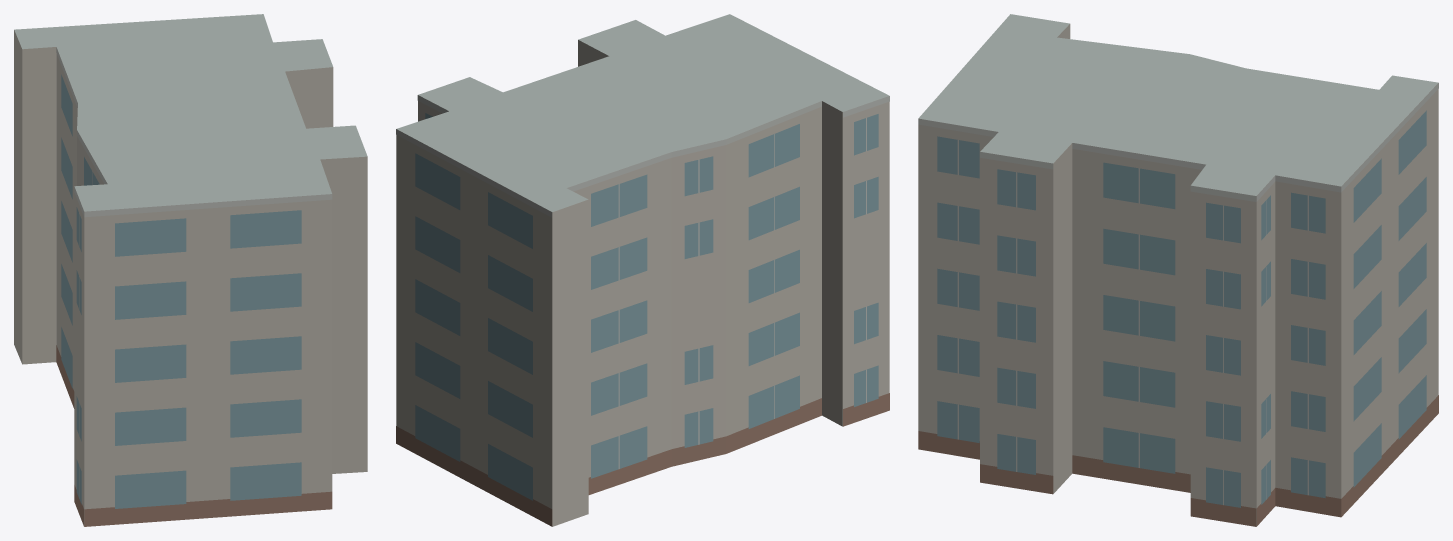
File: survey-upis-32873378.glb
The picture shows the model from 3 angles, left to right: view 1: azimuth 30°, elevation 25°; view 2: azimuth 150°, elevation 25°; view 3: azimuth 270°, elevation 25°; orthographic projection. The views are drawn at different scales.
Visible parts, largest first — view 1: survey-upis-32873378.tmp; view 2: survey-upis-32873378.tmp; view 3: survey-upis-32873378.tmp.
Boxes of the visible parts, box(x1,y1,x2,y2) form: survey-upis-32873378.tmp: box(14, 14, 367, 526); survey-upis-32873378.tmp: box(396, 14, 889, 526); survey-upis-32873378.tmp: box(918, 14, 1438, 526).
Size of the model in its own units: 15.95 by 13.5 by 19.26.
